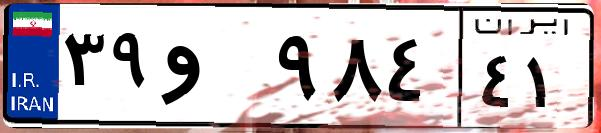1: (525, 38, 570, 115)
3: (57, 26, 110, 100)
4: (385, 28, 445, 110), (475, 38, 525, 113)
8: (330, 28, 385, 110)
9: (270, 28, 330, 110), (110, 28, 158, 98)
و: (158, 20, 270, 120)
